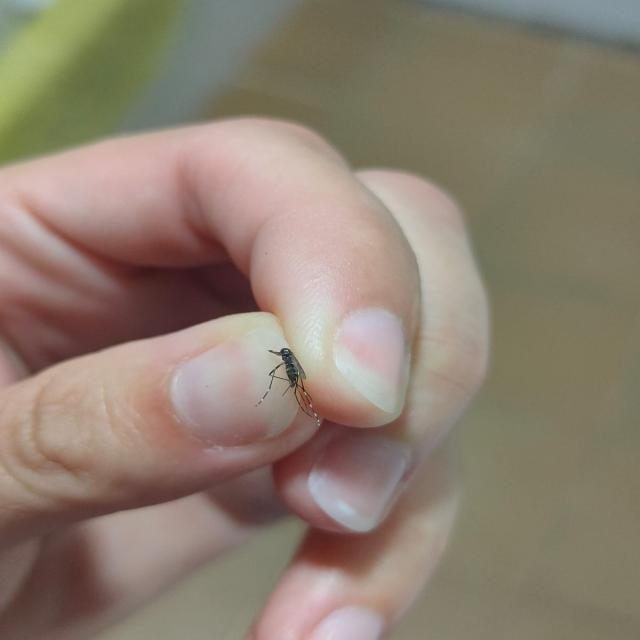albopictus: (248, 342, 324, 424)
